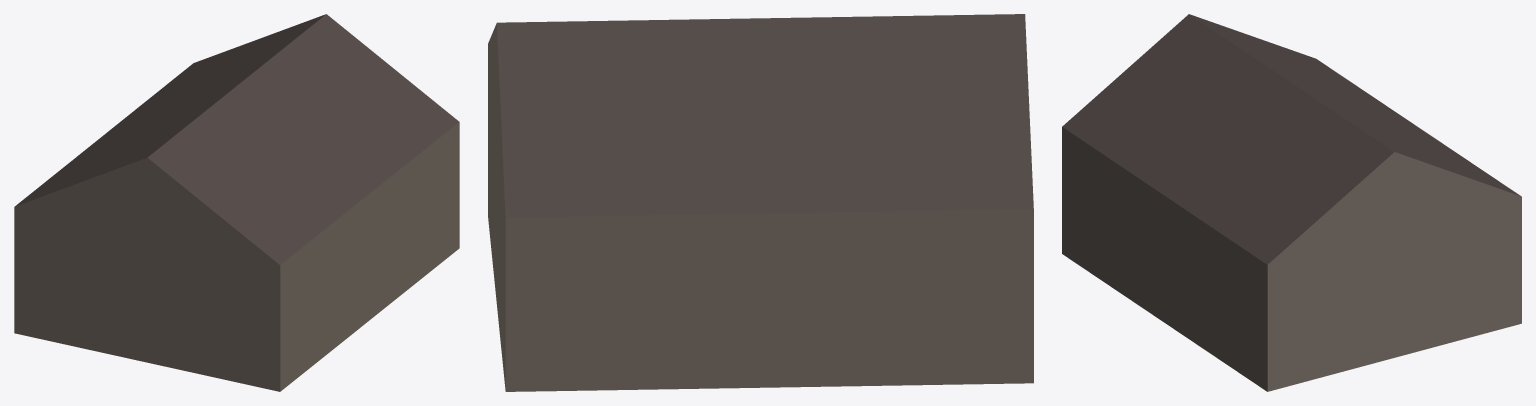
3 renders of one model, left to right at view 1: azimuth 30°, elevation 25°; view 2: azimuth 150°, elevation 25°; view 3: azimuth 270°, elevation 25°, orthographic. The views are drawn at different scales.
Visible parts, largest first — view 1: HP-w1287061526; view 2: HP-w1287061526; view 3: HP-w1287061526.
Boxes of the visible parts, <box> form: HP-w1287061526: <box>14,14,459,391</box>; HP-w1287061526: <box>488,14,1033,391</box>; HP-w1287061526: <box>1062,14,1521,391</box>.
Size of the model in its own units: 20.89 by 9.72 by 19.68.
